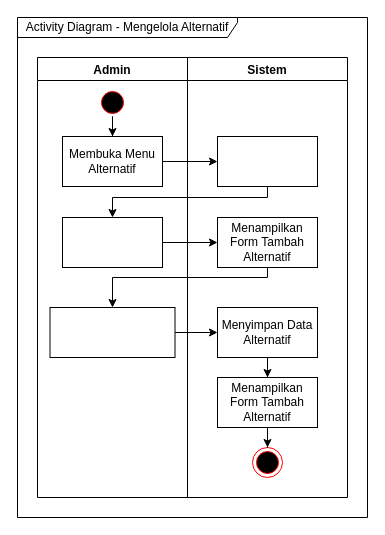
The diagram is 385 pixels wide and 535 high, and some of its shapes have lost their labels. The shapes that lost their labels are listed below. From the top down, each one's centre as x and y in pixels, then its label:
At pixel 267 161: "Menampilkan Halaman Alternatif".
At pixel 112 242: "Memilih Tambah Alternatif".
At pixel 112 332: "Mengisi Nama Lengkap".
